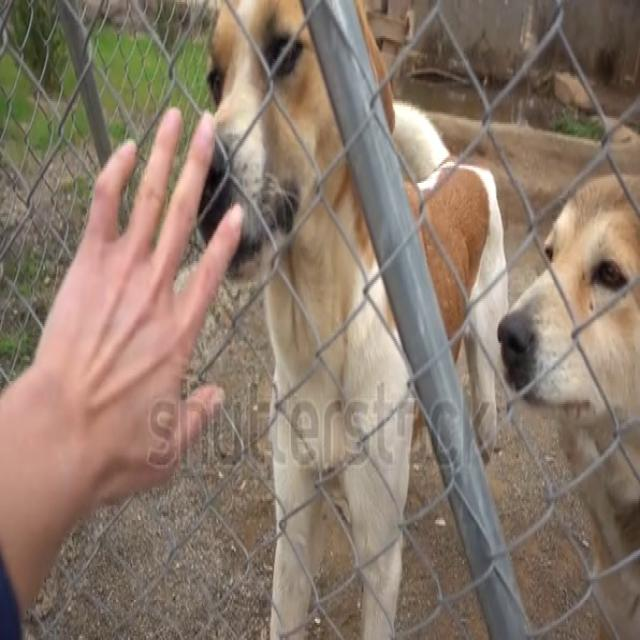normal_animals: (193, 0, 511, 638), (475, 142, 640, 499)
